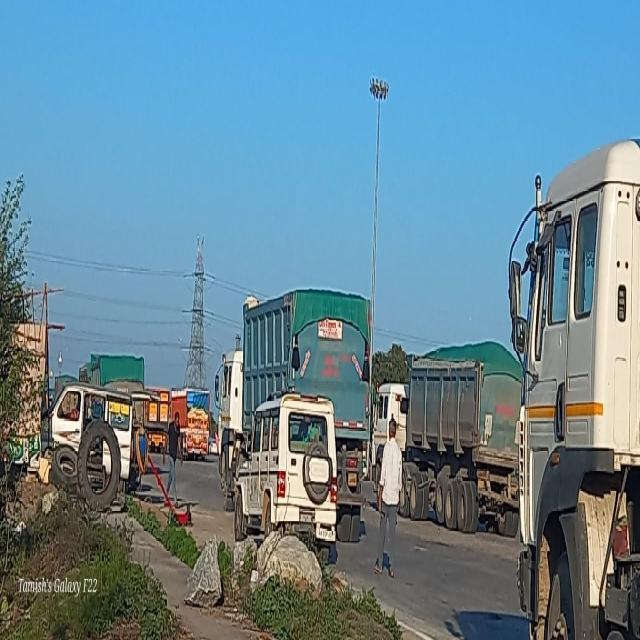covered: (406, 342, 524, 528), (242, 292, 374, 457), (78, 355, 144, 401)
